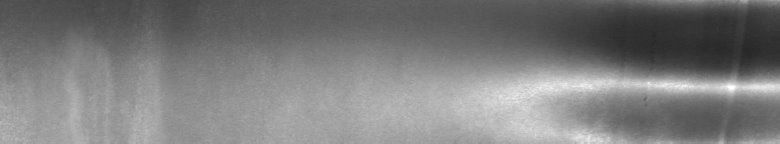ke: (533, 4, 776, 136)
